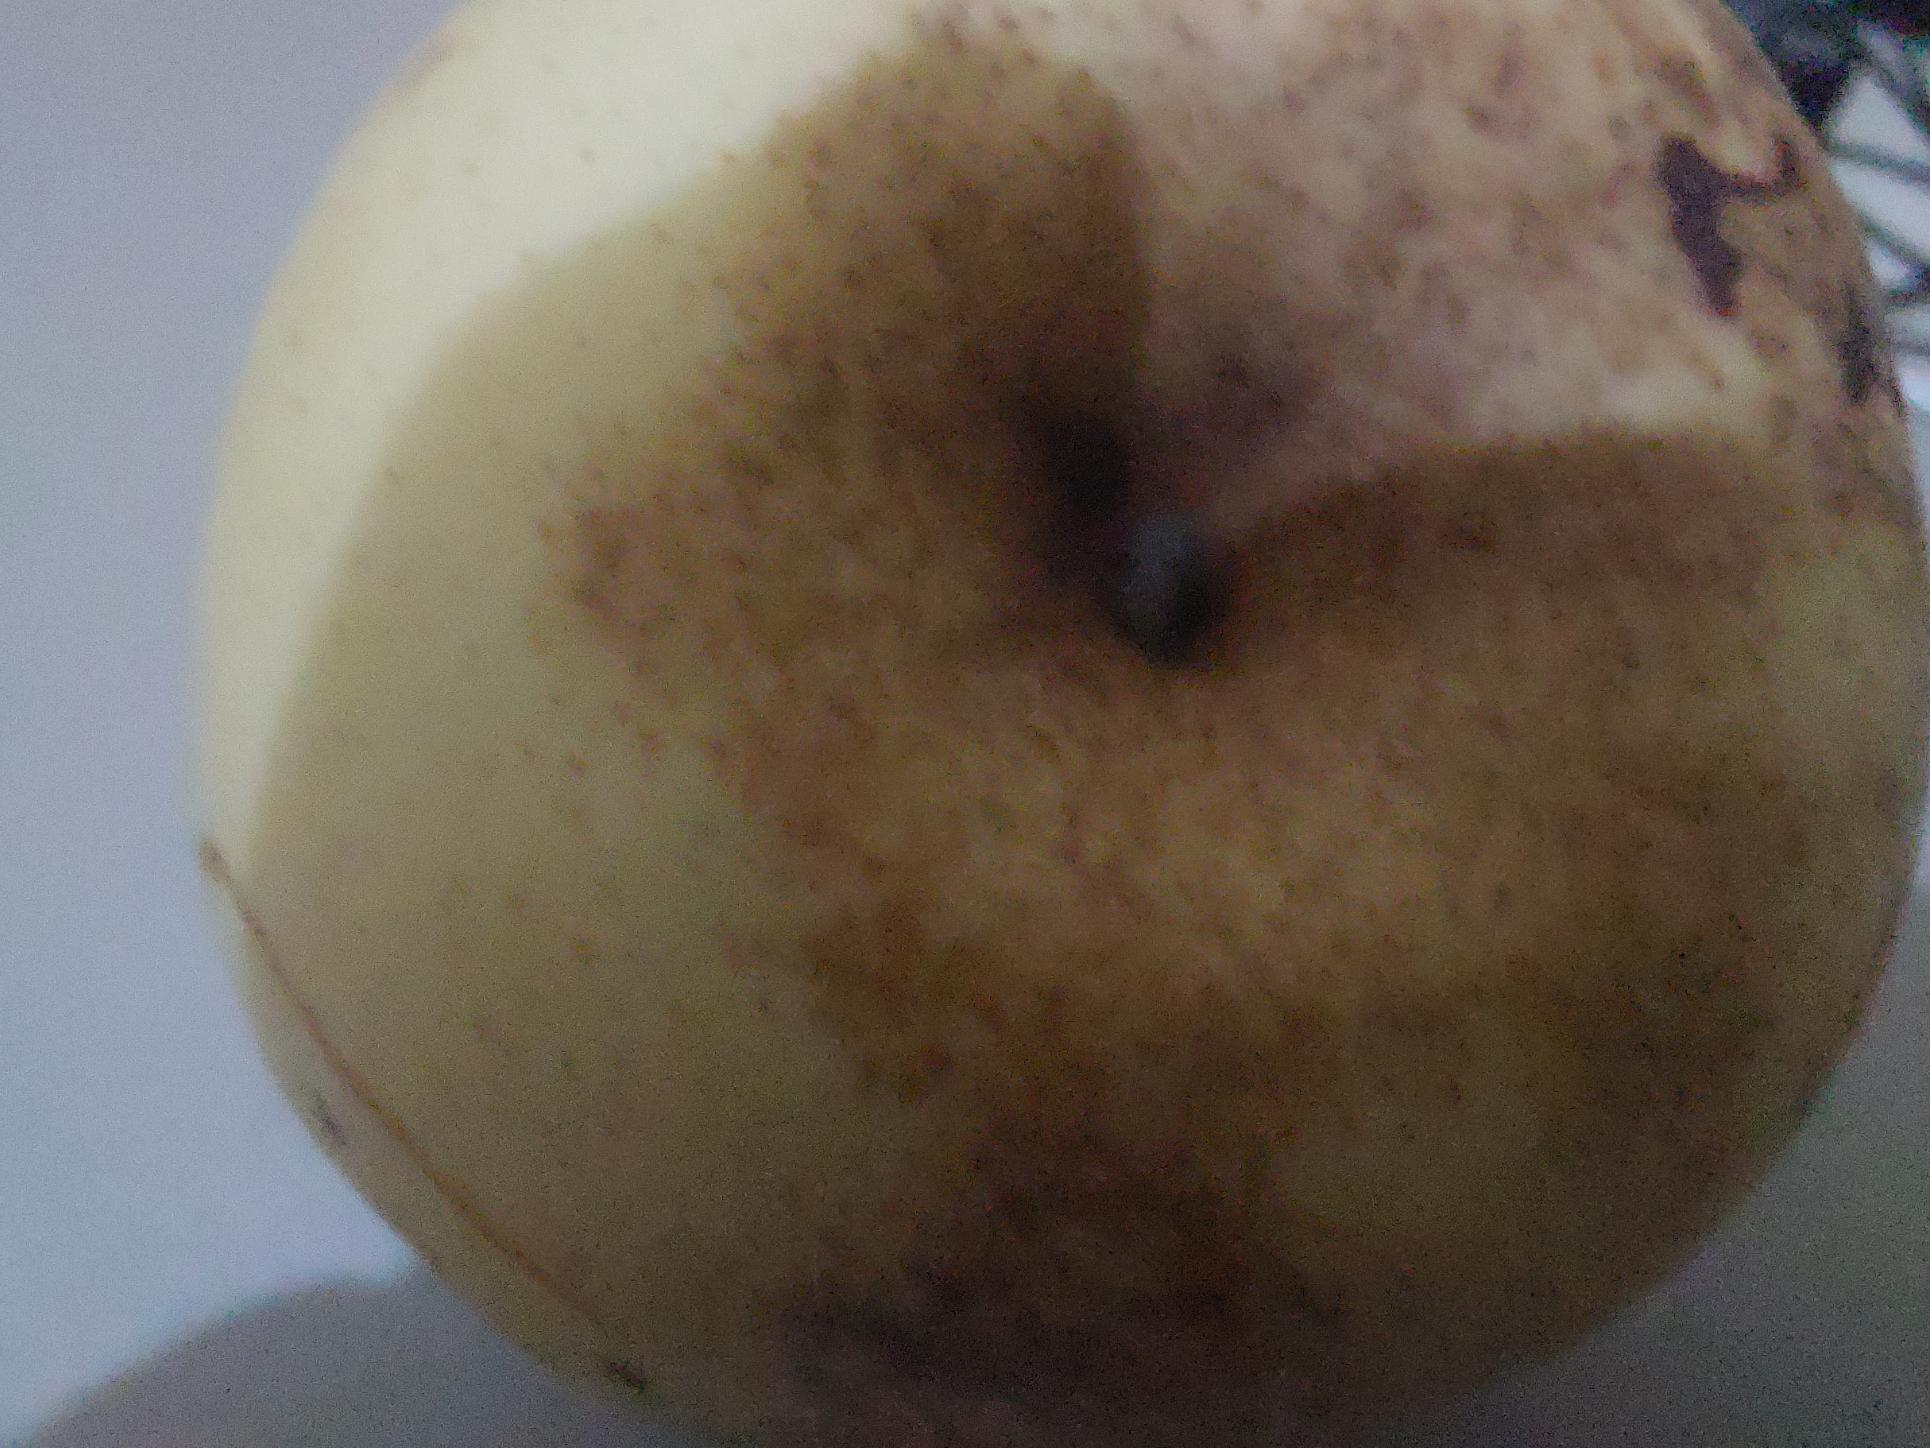Bad Pear: (189, 0, 1930, 1448)
